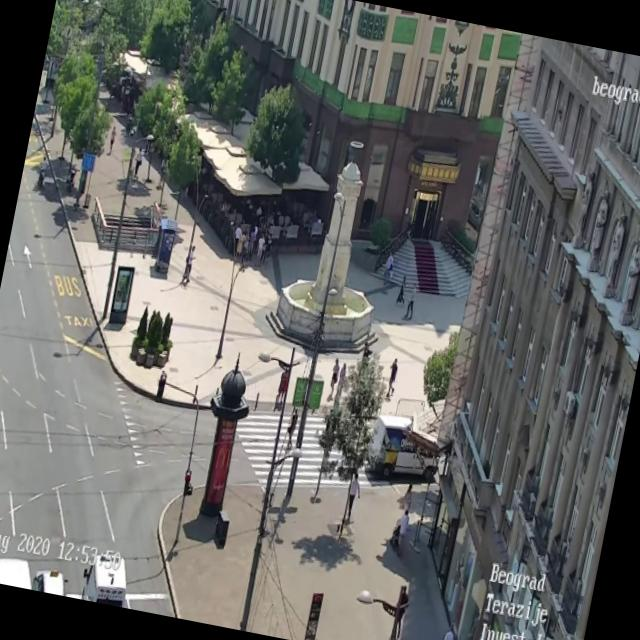car: (362, 410, 447, 490), (84, 549, 132, 607), (0, 555, 36, 590), (35, 572, 74, 597)
